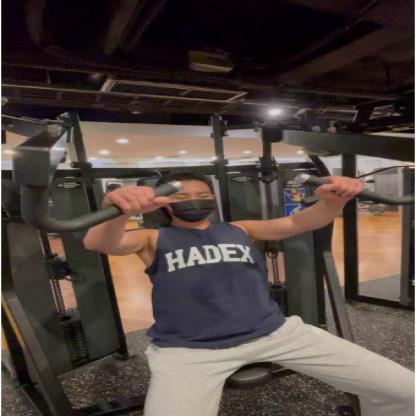Chest Press machine: (0, 102, 416, 416)
